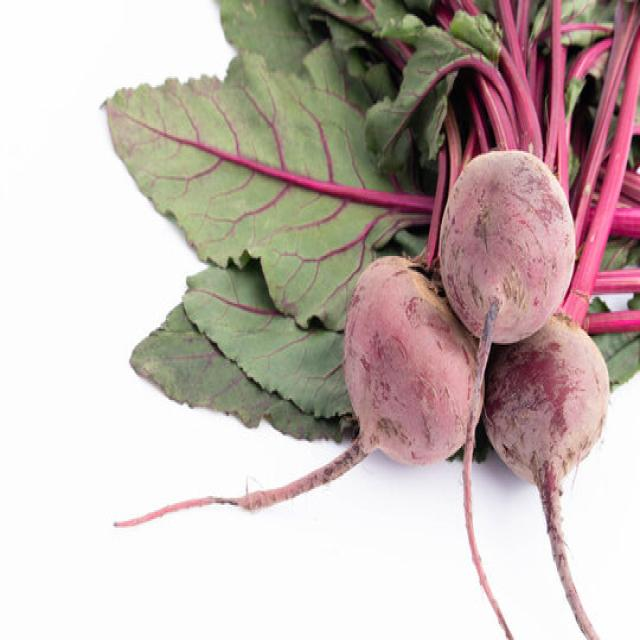Beetroot: (437, 148, 576, 636), (480, 311, 610, 638), (343, 243, 482, 475)
